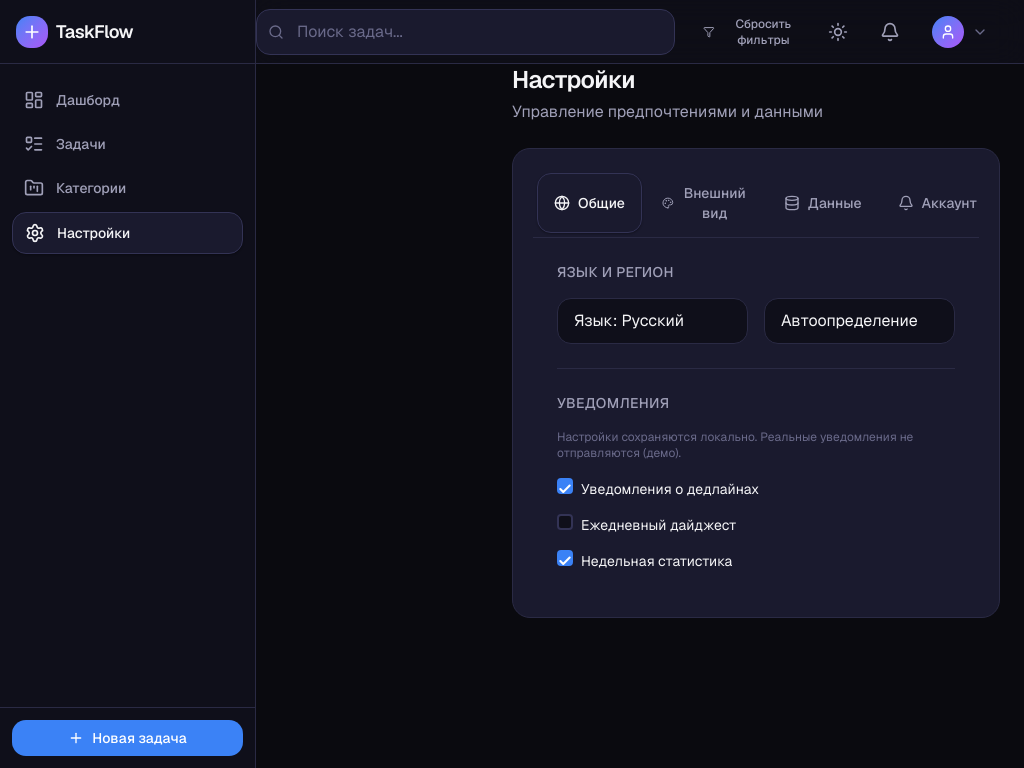
Scenario: TaskFlow - Basic Navigation › navigates to tasks page
Note: Click tasks link in sidebar (first one)
Click the link "Задачи" at [65, 144], box [24,134,106,154]
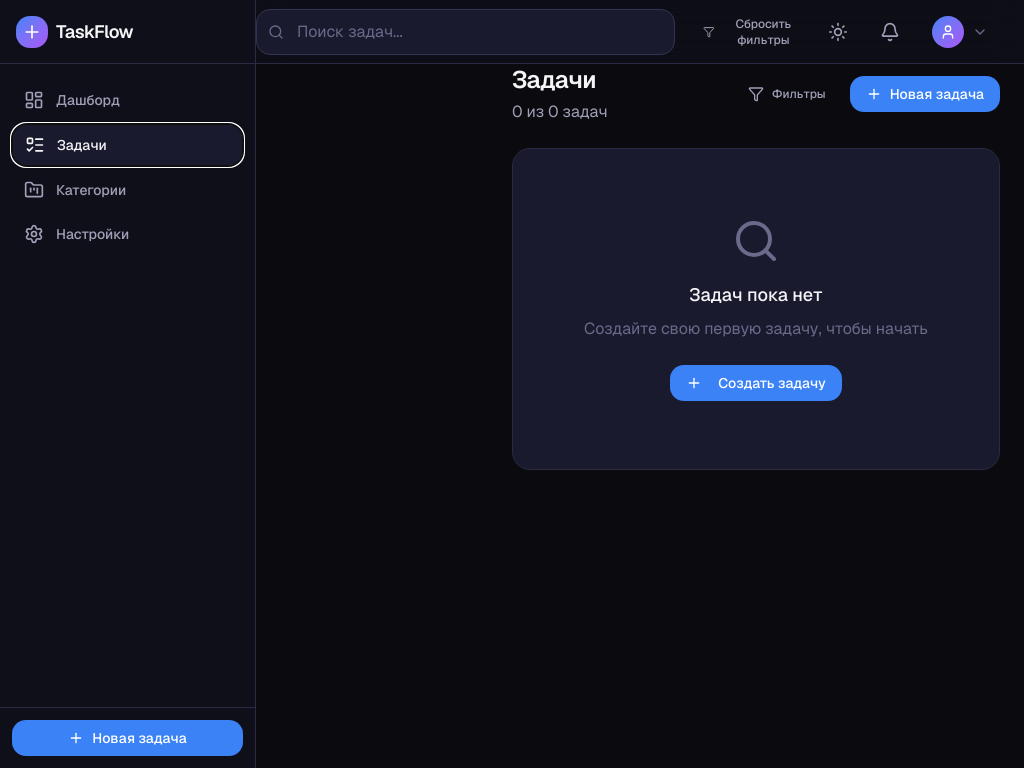
expect the heading "Задачи" is shown: met, box [512,64,608,96]
